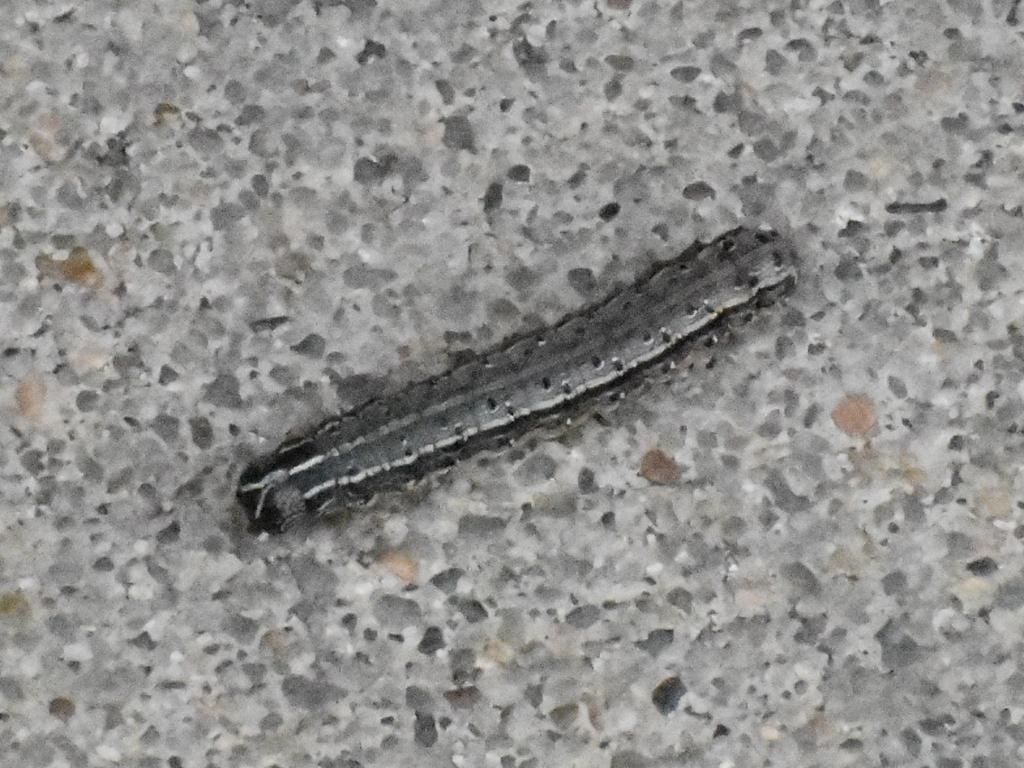caterpillars: (168, 164, 850, 610)
